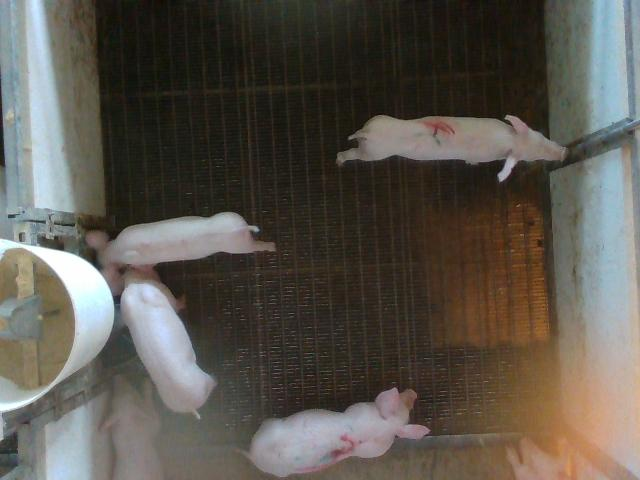pig-3: (246, 388, 429, 477)
pig-4: (336, 115, 568, 181)
